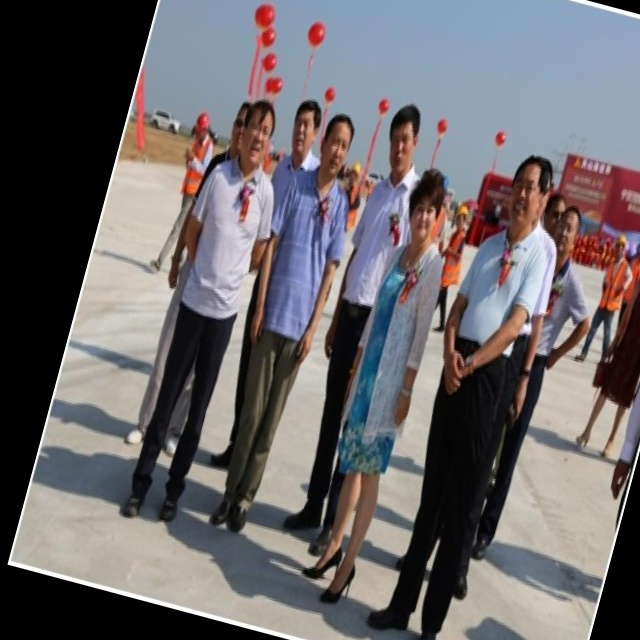Sin_Casco_Mascarrilla: (399, 163, 451, 245), (377, 100, 428, 180)
